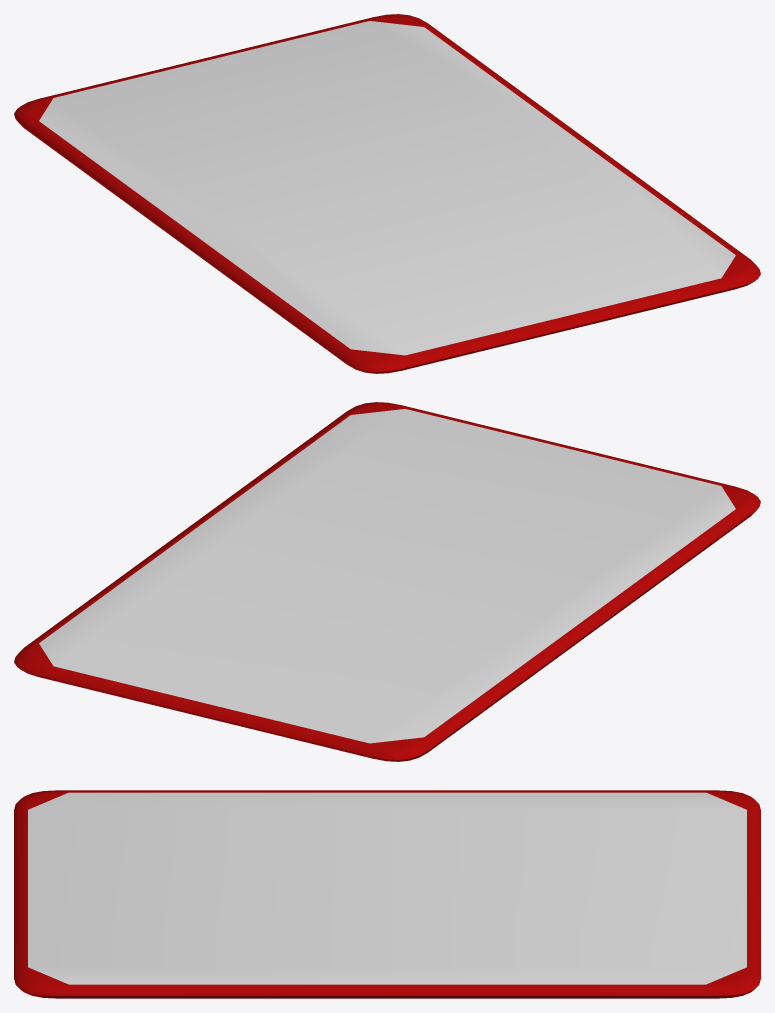
The model's file is Card.FBX.
3 views of the same model, one above another, from view 1: azimuth 30°, elevation 25°; view 2: azimuth 150°, elevation 25°; view 3: azimuth 270°, elevation 25° (orthographic). The views are drawn at different scales.
Parts seen in each view (by area): view 1: Box001; view 2: Box001; view 3: Box001.
Part boxes in pixels (x1=…): Box001: x1=14, y1=14, x2=760, y2=373; Box001: x1=14, y1=402, x2=760, y2=761; Box001: x1=14, y1=790, x2=760, y2=998.
Size of the model in its own units: 59.5 by 1.62 by 92.56.
